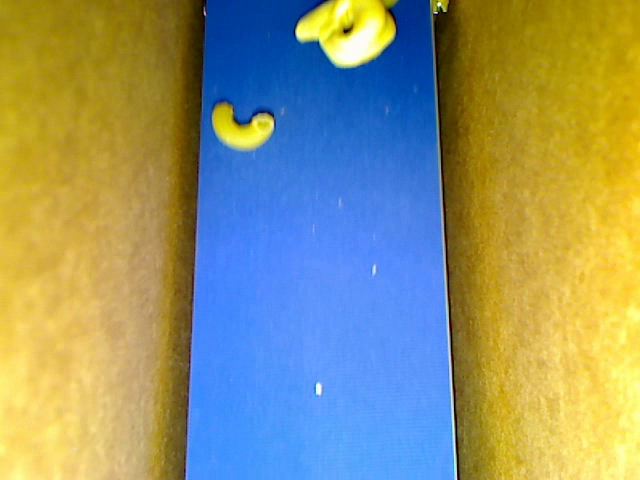elbow: (210, 99, 274, 152)
tortellini: (295, 1, 398, 69)
